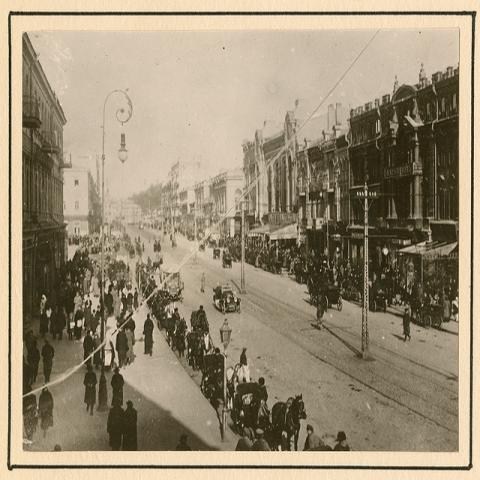car: (159, 262, 184, 301), (214, 284, 240, 315), (214, 248, 220, 260)
